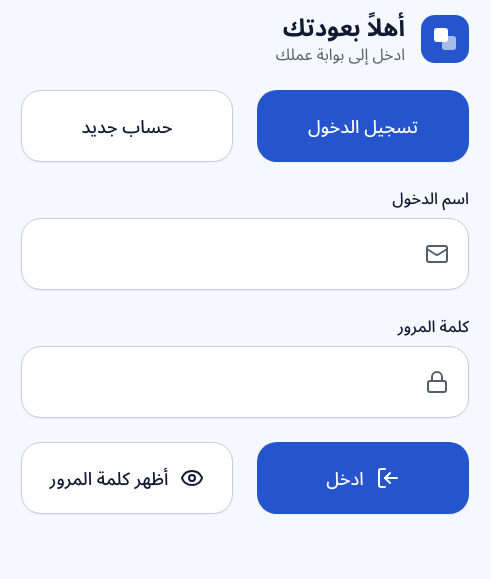
Test case: AuthForm › keeps «ادخل» usable after a passing failure (offline), so a retry goes out
Step 1. Type "ali@example.sa" into the field labelled "اسم الدخول" → (245, 254), box [21,218,469,290]
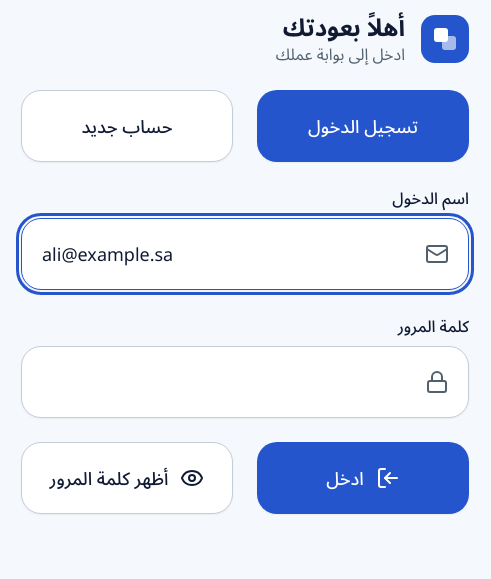
Step 2. Type "x" into the password field labelled "كلمة المرور" → (245, 382), box [21,346,469,418]
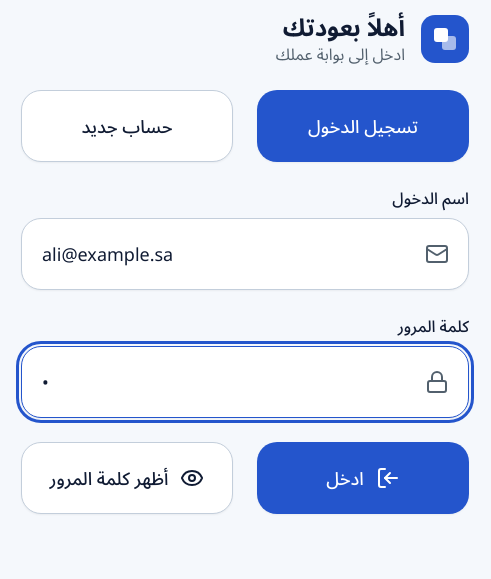
Step 3. Click the button "ادخل" → (363, 478), box [257,442,469,514]
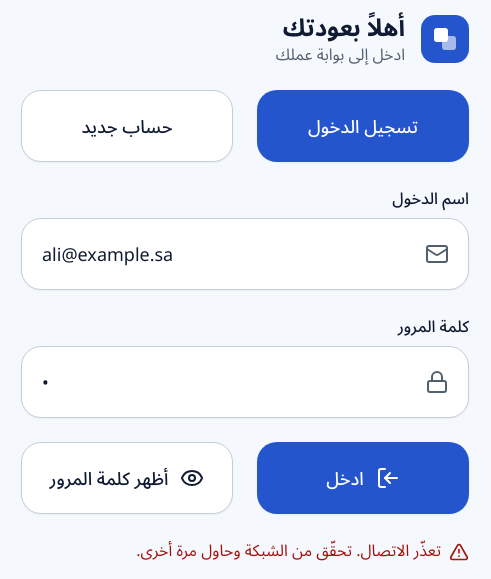
Check: the text "تعذّر الاتصال. تحقّق من الشبكة وحاول مرة أخرى." is shown, box [136,538,469,562]
